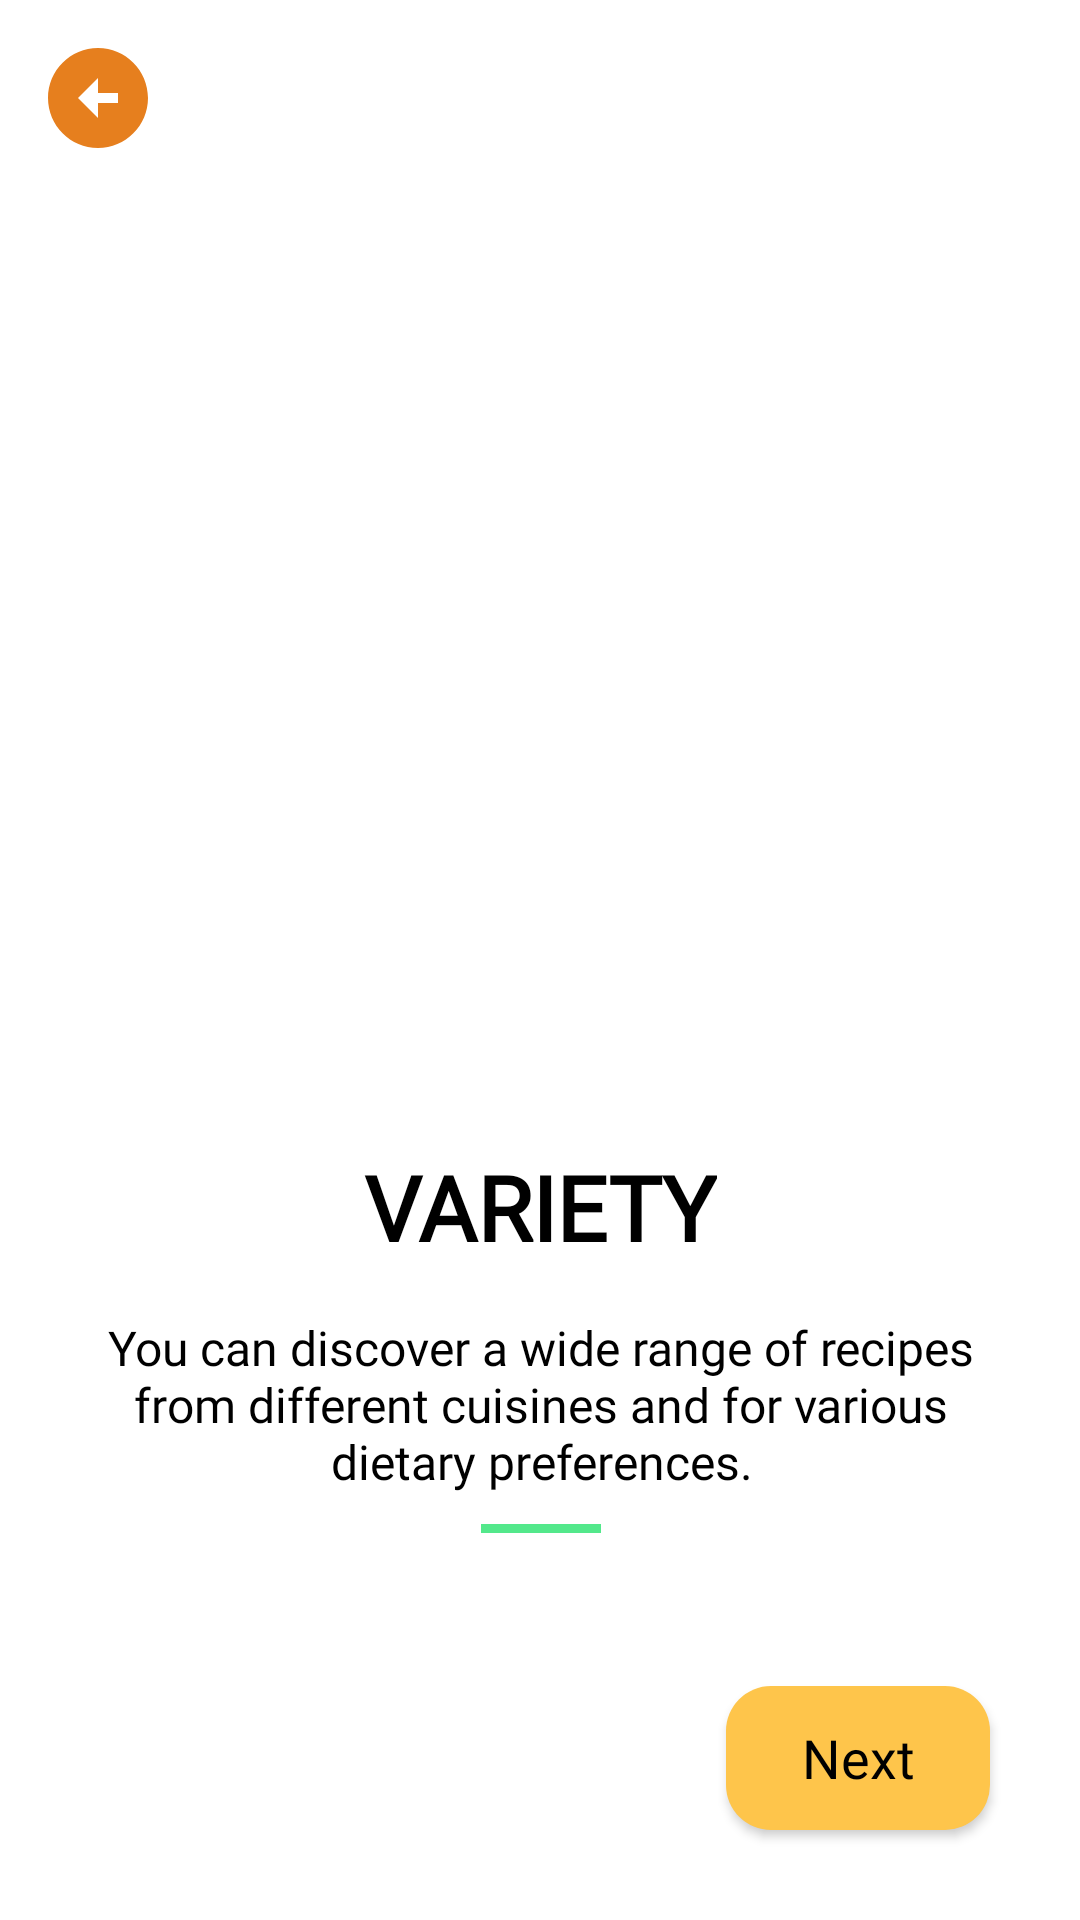

Locate icon controls on the screen. Image size 1080w x 1920h, boxes as (x1, y1, x2, y2).
arrow back: (48, 48, 148, 148)
